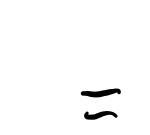eqv: (78, 85, 121, 123)
